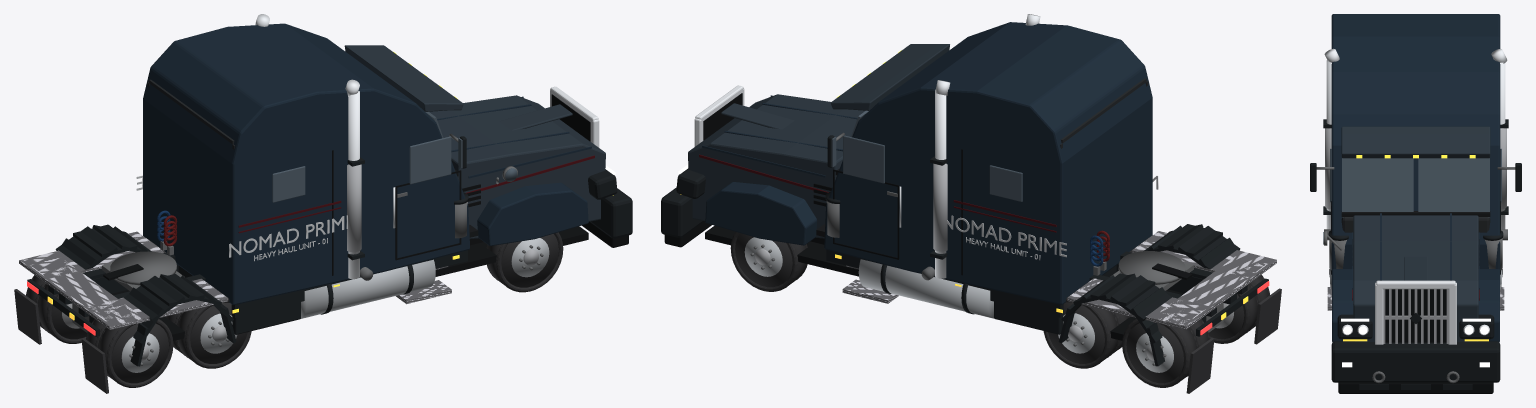
Rendered from nomad-prime.glb.
3 views of the same model, side by side, from view 1: azimuth 30°, elevation 25°; view 2: azimuth 150°, elevation 25°; view 3: azimuth 270°, elevation 25° (orthographic). The views are drawn at different scales.
Parts seen in each view (by area): view 1: HighRoofSleeperCab, AerodynamicHood, Fender_R, FuelTank_R, SunVisor, RearDeckPlate, Wheel_Drive_Axle2_Right_Outer_Tire, DoorGlass_R, Wheel_Drive_Axle1_Right_Outer_Tire, UnderbodyPan, ToolBox_R, RearCatwalk_R (+28 smaller); view 2: HighRoofSleeperCab, AerodynamicHood, Fender_L, FuelTank_L, SunVisor, RearDeckPlate, ToolBox_L, Wheel_Drive_Axle2_Left_Outer_Tire, Wheel_Drive_Axle1_Left_Outer_Tire, DoorGlass_L, UnderbodyPan, Wheel_Steer_Left_Tire (+28 smaller); view 3: HighRoofSleeperCab, AerodynamicHood, FrontPushBumper, SunVisor, WindshieldGlass_L, WindshieldGlass_R, GrilleRecess, BumperValance, Fender_L, Fender_R, GrilleRail_T, DashTop (+14 smaller).
Part boxes in pixels (x1,y1,x2,y2): HighRoofSleeperCab: [143, 23, 469, 304]; AerodynamicHood: [429, 95, 605, 238]; Fender_R: [477, 182, 588, 245]; FuelTank_R: [301, 259, 435, 318]; SunVisor: [344, 45, 463, 111]; RearDeckPlate: [19, 259, 144, 329]; Wheel_Drive_Axle2_Right_Outer_Tire: [97, 319, 173, 387]; DoorGlass_R: [409, 136, 451, 184]; Wheel_Drive_Axle1_Right_Outer_Tire: [177, 291, 247, 368]; UnderbodyPan: [111, 226, 588, 340]; ToolBox_R: [232, 294, 300, 334]; RearCatwalk_R: [87, 279, 226, 329]; HighRoofSleeperCab: [824, 22, 1152, 304]; AerodynamicHood: [688, 94, 865, 238]; Fender_L: [705, 182, 816, 245]; FuelTank_L: [858, 259, 994, 318]; SunVisor: [831, 44, 949, 110]; RearDeckPlate: [1151, 251, 1276, 329]; ToolBox_L: [994, 290, 1062, 334]; Wheel_Drive_Axle2_Left_Outer_Tire: [1122, 318, 1198, 387]; Wheel_Drive_Axle1_Left_Outer_Tire: [1048, 291, 1118, 368]; DoorGlass_L: [843, 135, 884, 183]; UnderbodyPan: [705, 225, 1184, 340]; Wheel_Steer_Left_Tire: [731, 232, 807, 291]; HighRoofSleeperCab: [1331, 14, 1500, 284]; AerodynamicHood: [1353, 215, 1478, 341]; FrontPushBumper: [1331, 341, 1500, 382]; SunVisor: [1341, 126, 1490, 158]; WindshieldGlass_L: [1418, 158, 1489, 217]; WindshieldGlass_R: [1342, 158, 1413, 217]; GrilleRecess: [1385, 289, 1446, 342]; BumperValance: [1338, 382, 1493, 393]; Fender_L: [1478, 269, 1499, 342]; Fender_R: [1332, 269, 1353, 342]; GrilleRail_T: [1376, 280, 1455, 289]; DashTop: [1341, 211, 1490, 216].
Bounding box in the file's own units: 8.46 × 3.92 × 3.14.
25 materials, 1 textured.
